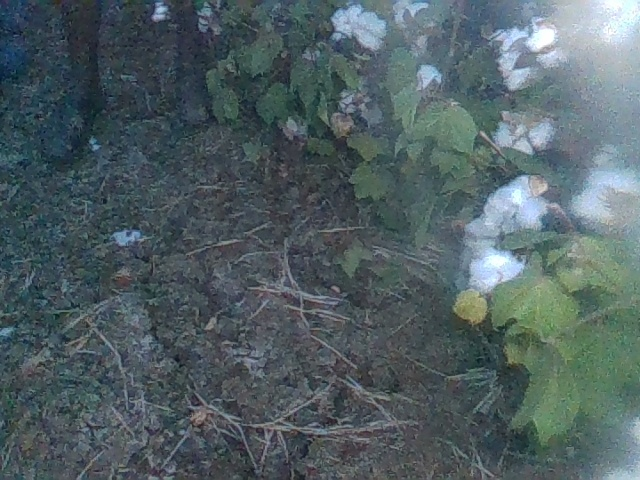cotton: (573, 164, 640, 231), (467, 176, 545, 233), (491, 30, 564, 84), (460, 232, 524, 291), (332, 3, 384, 53), (391, 1, 432, 52), (593, 1, 639, 43), (498, 118, 553, 153), (337, 89, 359, 114), (419, 65, 442, 86), (601, 469, 640, 479), (627, 417, 640, 439)
